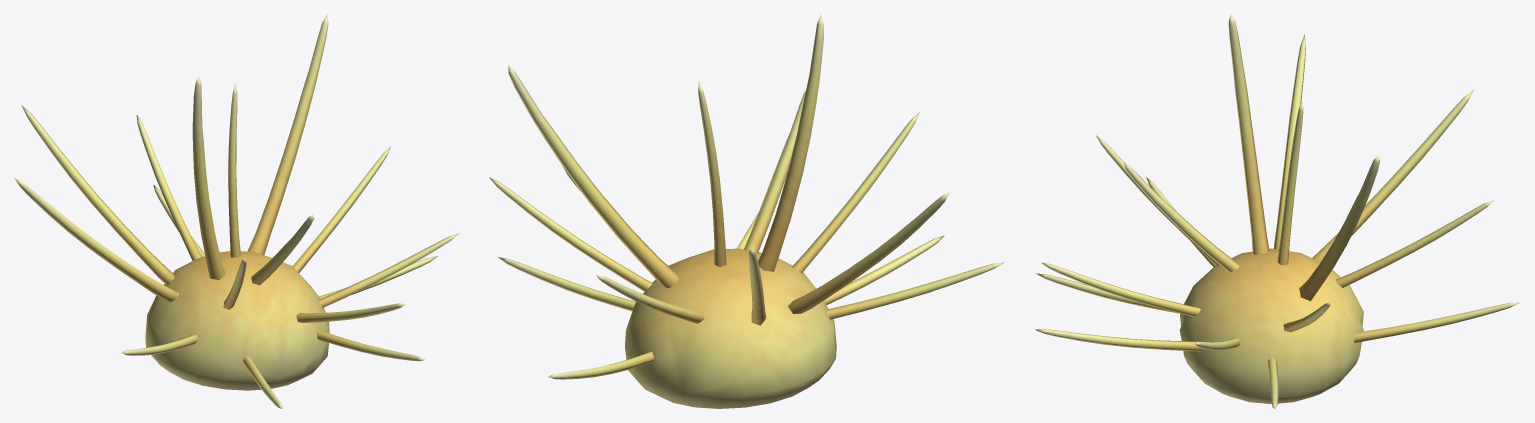
The model's file is Cartoon Seaweed_13-2-14.fbx.
The picture shows the model from 3 angles, left to right: view 1: azimuth 30°, elevation 25°; view 2: azimuth 150°, elevation 25°; view 3: azimuth 270°, elevation 25°; orthographic projection. The views are drawn at different scales.
Parts seen in each view (by area): view 1: Cartoon Seaweed_13.2.14; view 2: Cartoon Seaweed_13.2.14; view 3: Cartoon Seaweed_13.2.14.
Boxes of the visible parts, box(x1,y1,x2,y2) form: Cartoon Seaweed_13.2.14: box(14, 14, 459, 408); Cartoon Seaweed_13.2.14: box(489, 14, 1004, 408); Cartoon Seaweed_13.2.14: box(1035, 14, 1519, 408).
Size of the model in its own units: 26.37 by 19.89 by 26.58.
1 material, 1 textured.
